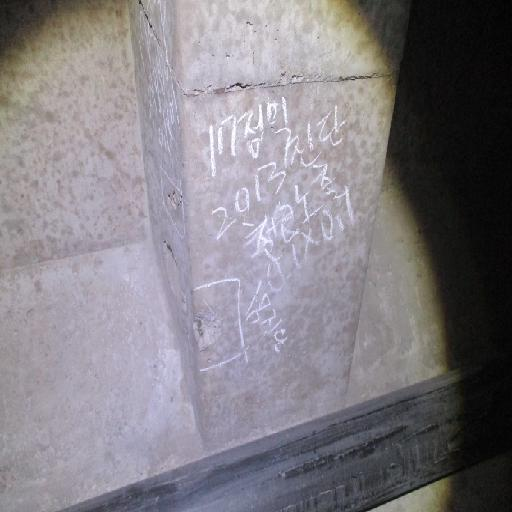exposed_rebar: (198, 319, 203, 340)
